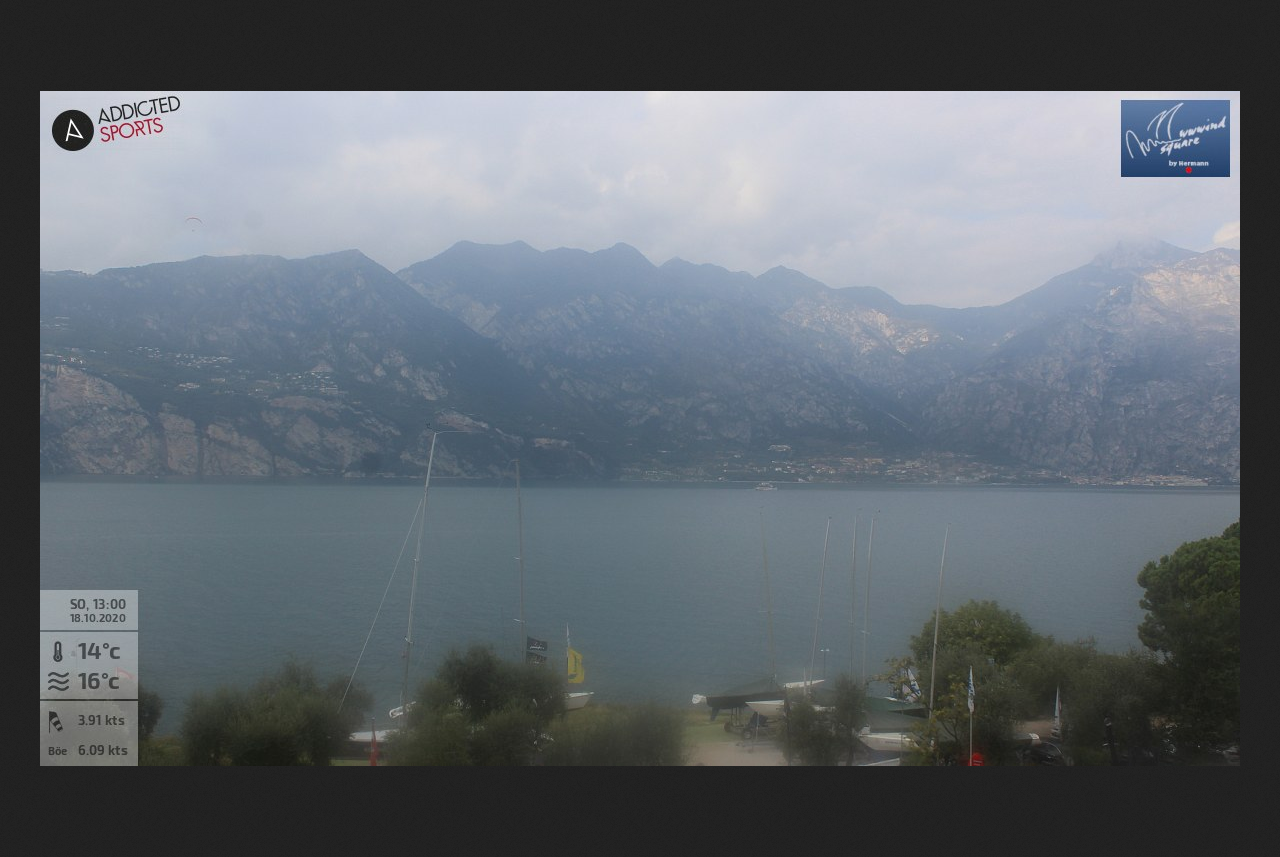no: (1051, 683, 1065, 726), (967, 665, 976, 720), (564, 618, 574, 647)
